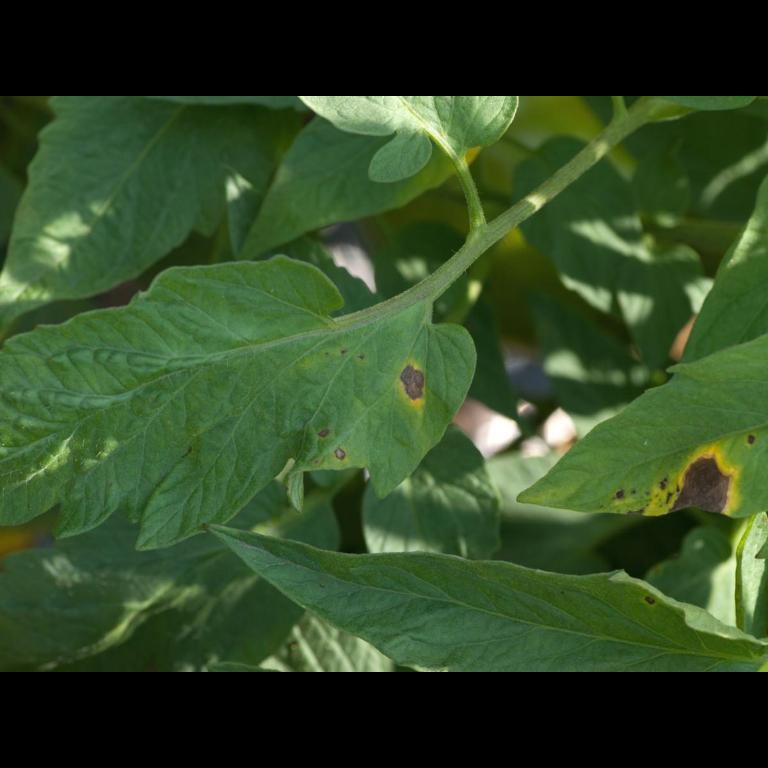blight: (646, 425, 752, 525), (379, 355, 447, 416)
